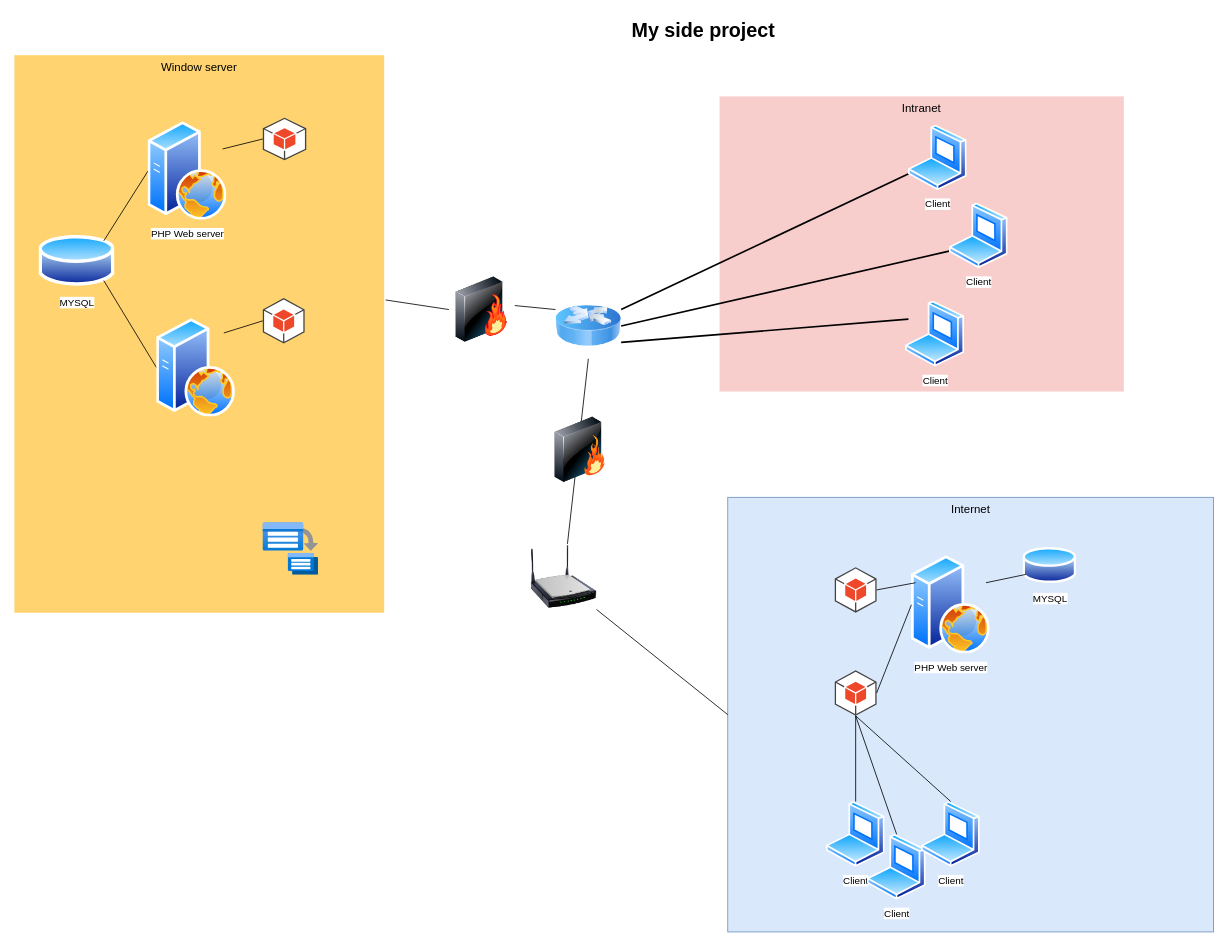
Image size: 1228x946. Some labels were removed from this diagram. The centre of each missing label's shape, as x and y in pixels:
"API gateway" goes at (x=855, y=589).
"BATCH (update project)" goes at (x=290, y=548).
"Glassfish server" goes at (x=195, y=367).
"Quotation management system" goes at (x=284, y=138).
"shopping online http://sirichaielectric.com" goes at (x=855, y=693).
"Stock management system" goes at (x=283, y=320).
